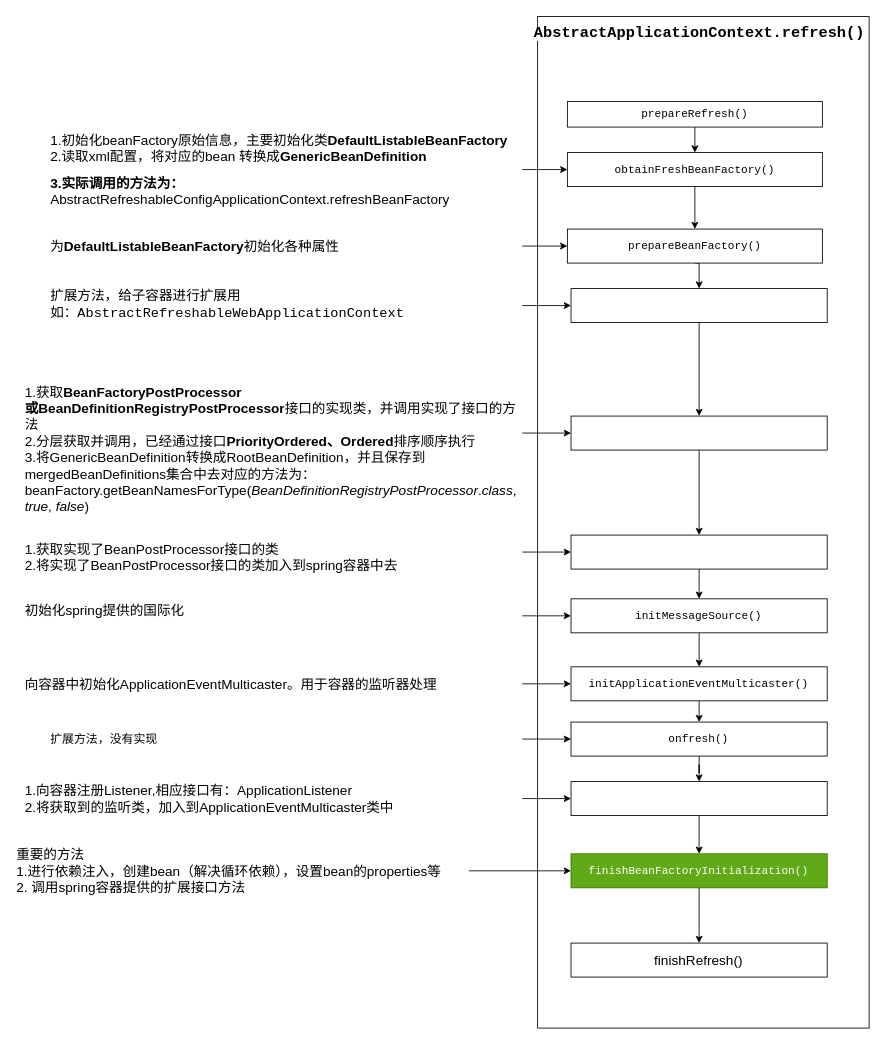
The diagram is 884 pixels wide and 1043 high, and some of its shapes have lost their labels. Here are the shapes that lost their labels. From the top down, the centre of each, then its label:
point 698,305: postProcessBeanFactory()
point 698,432: invokeBeanFactoryPostProcessors()
point 698,551: registerBeanPostProcessors()
point 698,798: registerListeners()
